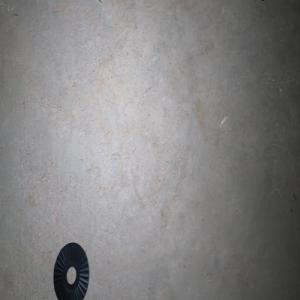Washer: (53, 242, 89, 300)
